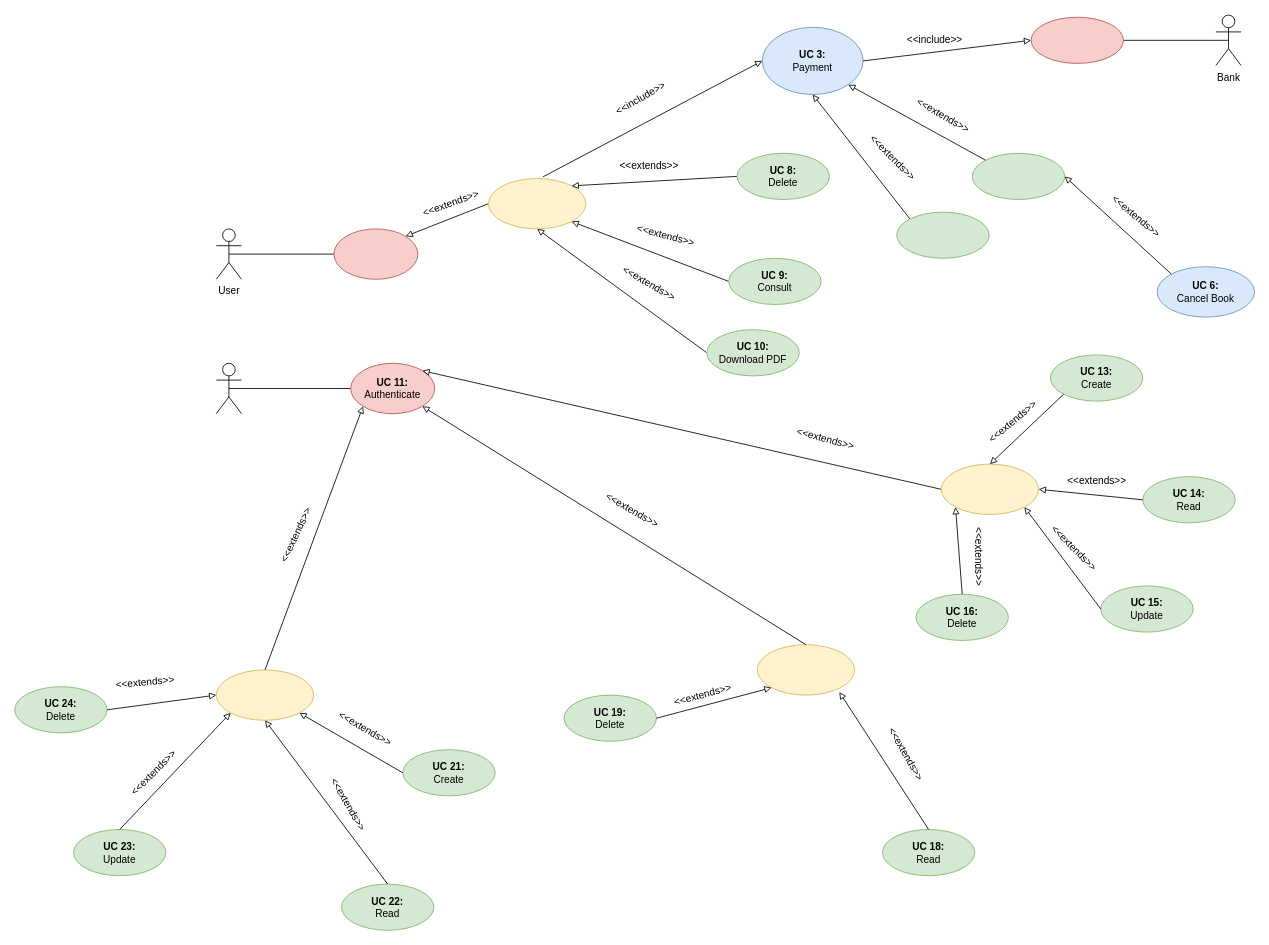
The diagram is 1269 pixels wide and 945 high, and some of its shapes have lost their labels. Each missing label, with the centre of its shape:
Admin: the point at 228,388
UC 12: User Management: the point at 989,488
UC 17: Booking Management: the point at 805,669
UC 1: Authenticate: the point at 375,253
UC 20: Product Management: the point at 264,694
UC 2: Book: the point at 537,203
UC 4: Check: the point at 1077,39
UC 5: Accepted: the point at 1018,176
UC 7: Denied: the point at 942,234
